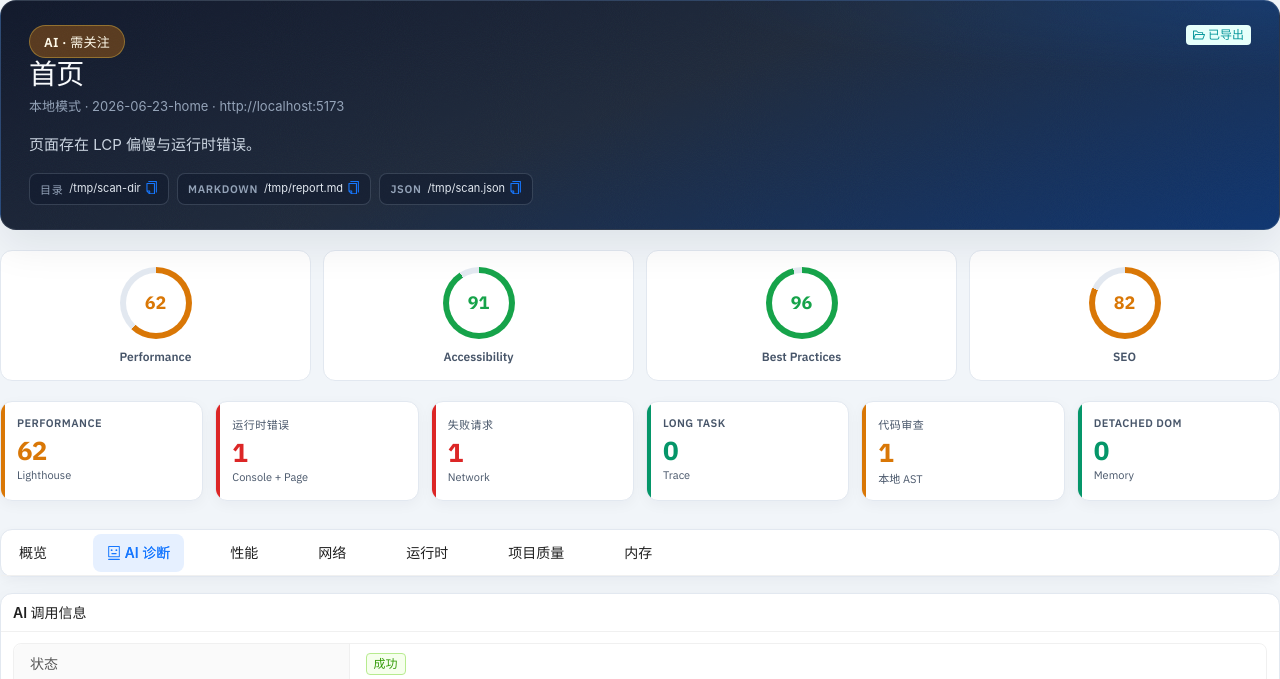
Test: ScanResultView › renders the health banner, score cards, and module tabs
This screenshot has width=1280, height=679.
Check: the heading "首页" is shown, box 29,57 -> 83,91
Check: the text "本地模式 · 2026-06-23-home · http://localhost:5173" is shown, box 29,96 -> 344,117
Click the tab "概览" at (33, 553), box 19,542 -> 47,564
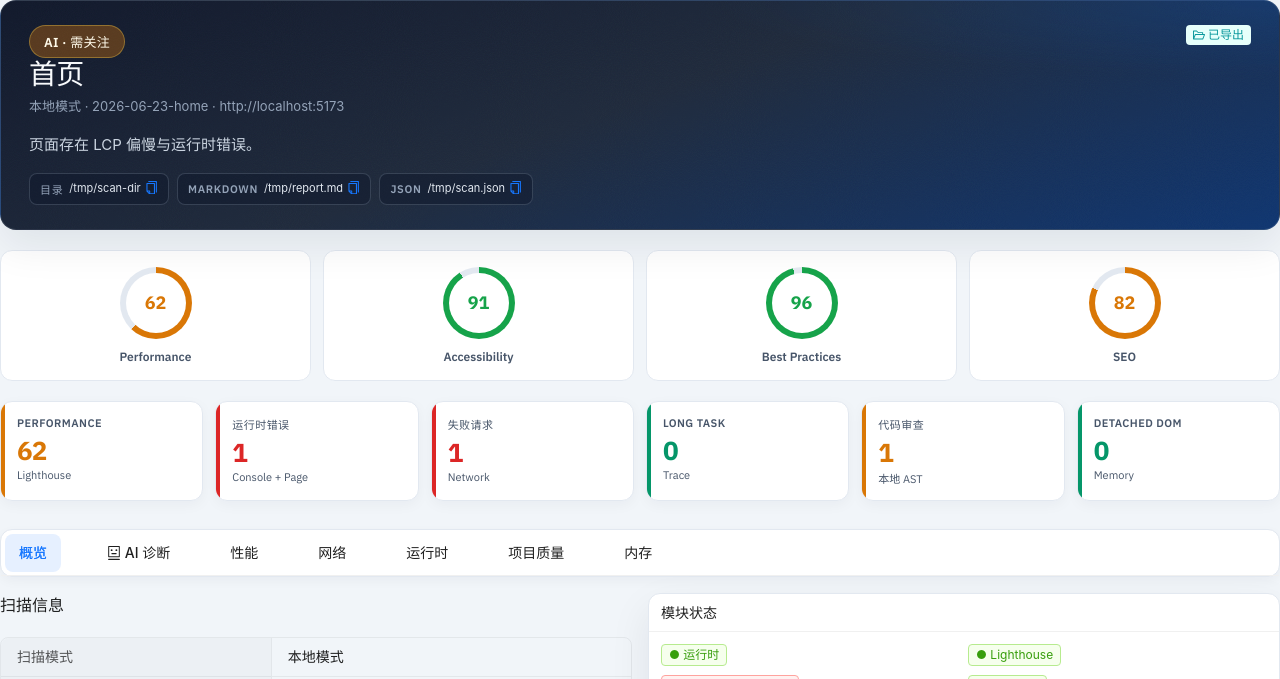
Check: the text "AI · 需关注" is shown, box 29,25 -> 125,58
Check: the text "扫描模式" is shown, box 17,648 -> 73,665
